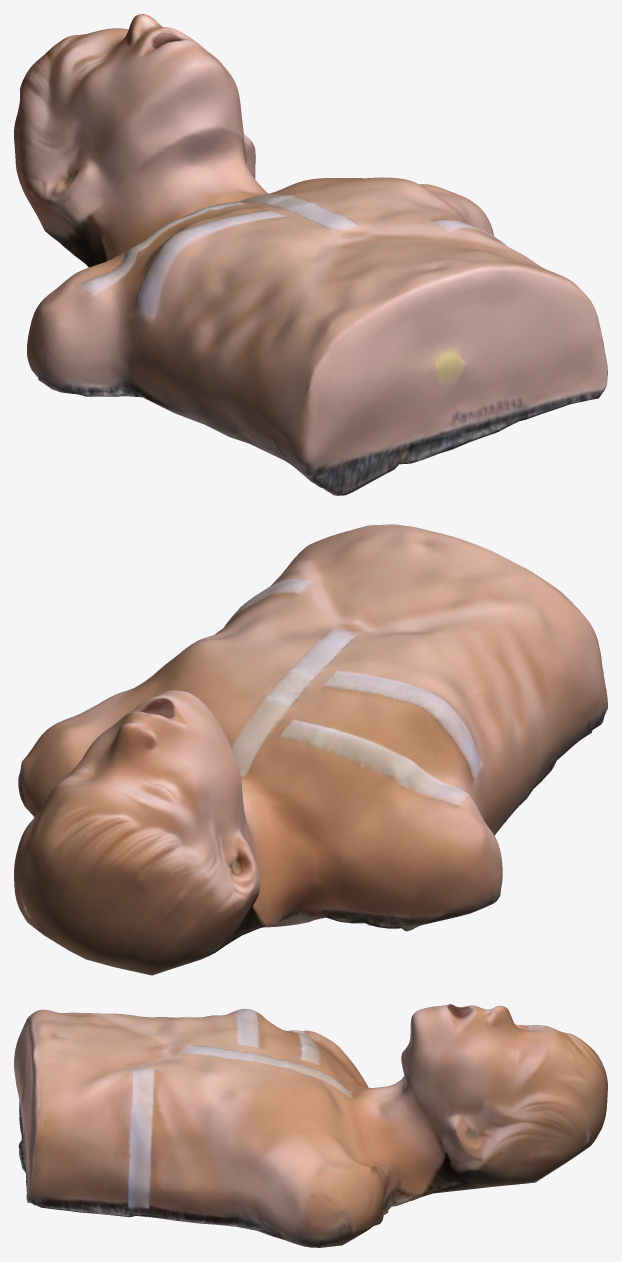
The model's file is mannequin_scan.glb.
The picture shows the model from 3 angles, top to bottom: view 1: azimuth 30°, elevation 25°; view 2: azimuth 150°, elevation 25°; view 3: azimuth 270°, elevation 25°; orthographic projection. The views are drawn at different scales.
Parts seen in each view (by area): view 1: ScanTorso; view 2: ScanTorso; view 3: ScanTorso.
Part boxes in pixels (x1,y1,x2,y2): ScanTorso: [14, 14, 607, 495]; ScanTorso: [14, 524, 607, 975]; ScanTorso: [14, 1004, 607, 1247].
Bounding box in the file's own units: 0.5462 × 0.2638 × 0.8148.
Materials: 1 (1 with a texture image).
